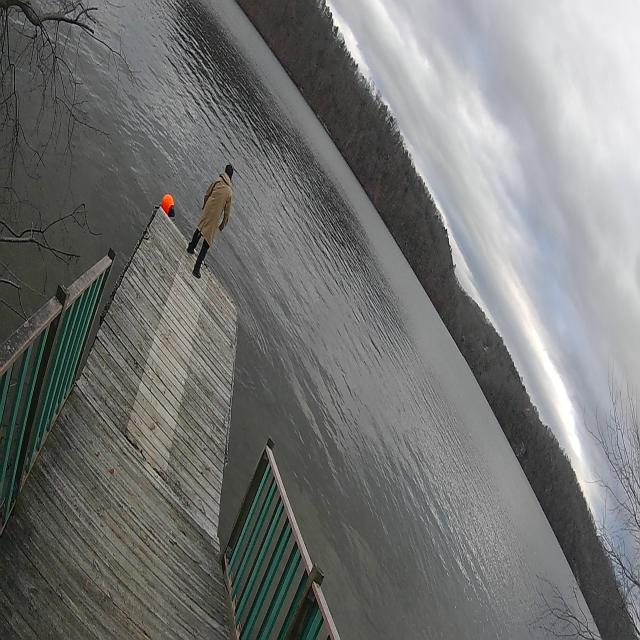Buoy: (158, 190, 180, 221)
